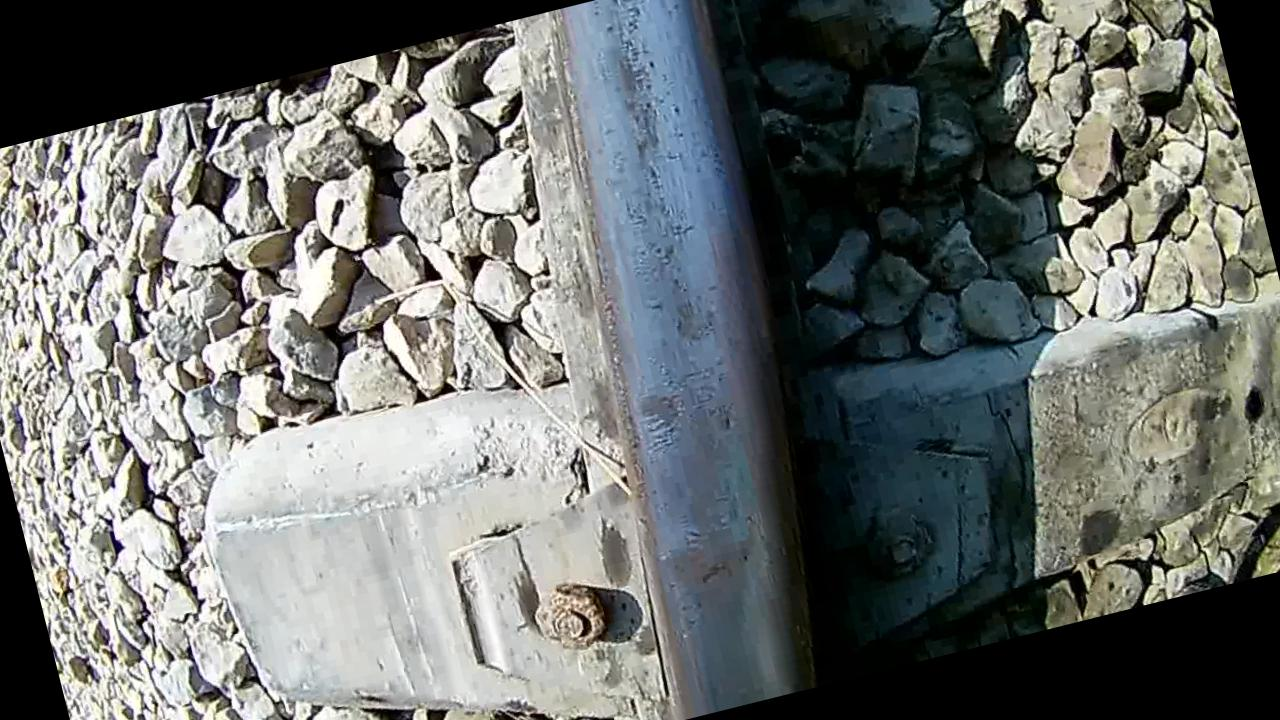crack: (513, 0, 870, 719)
